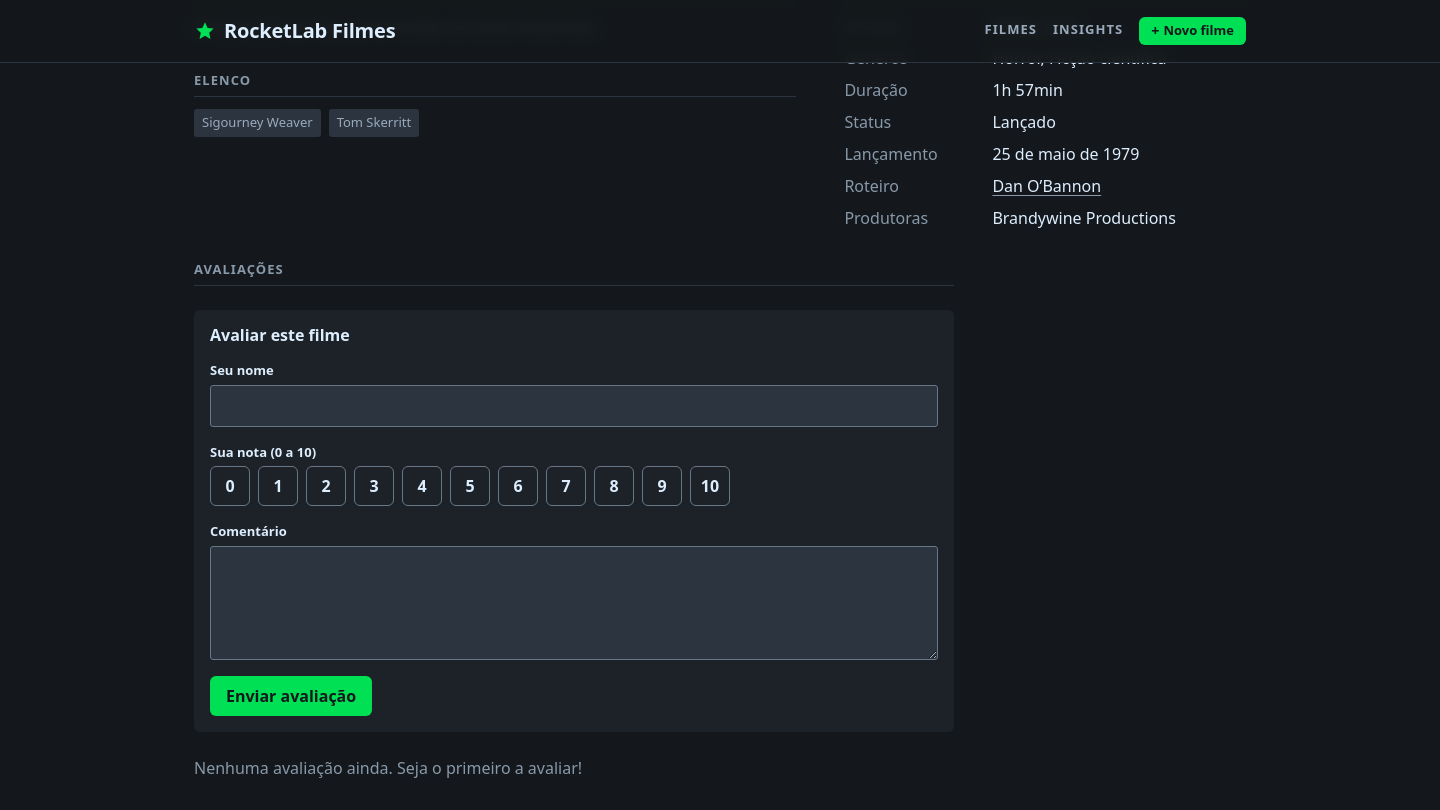
Test: MovieDetailPage — nova avaliação › mostra os erros de validação da API no campo
The image size is (1440, 810).
(page scrolled)
Type "Ana" into the field labelled "Seu nome" at {"x": 574, "y": 406}, box [210,385,938,427]
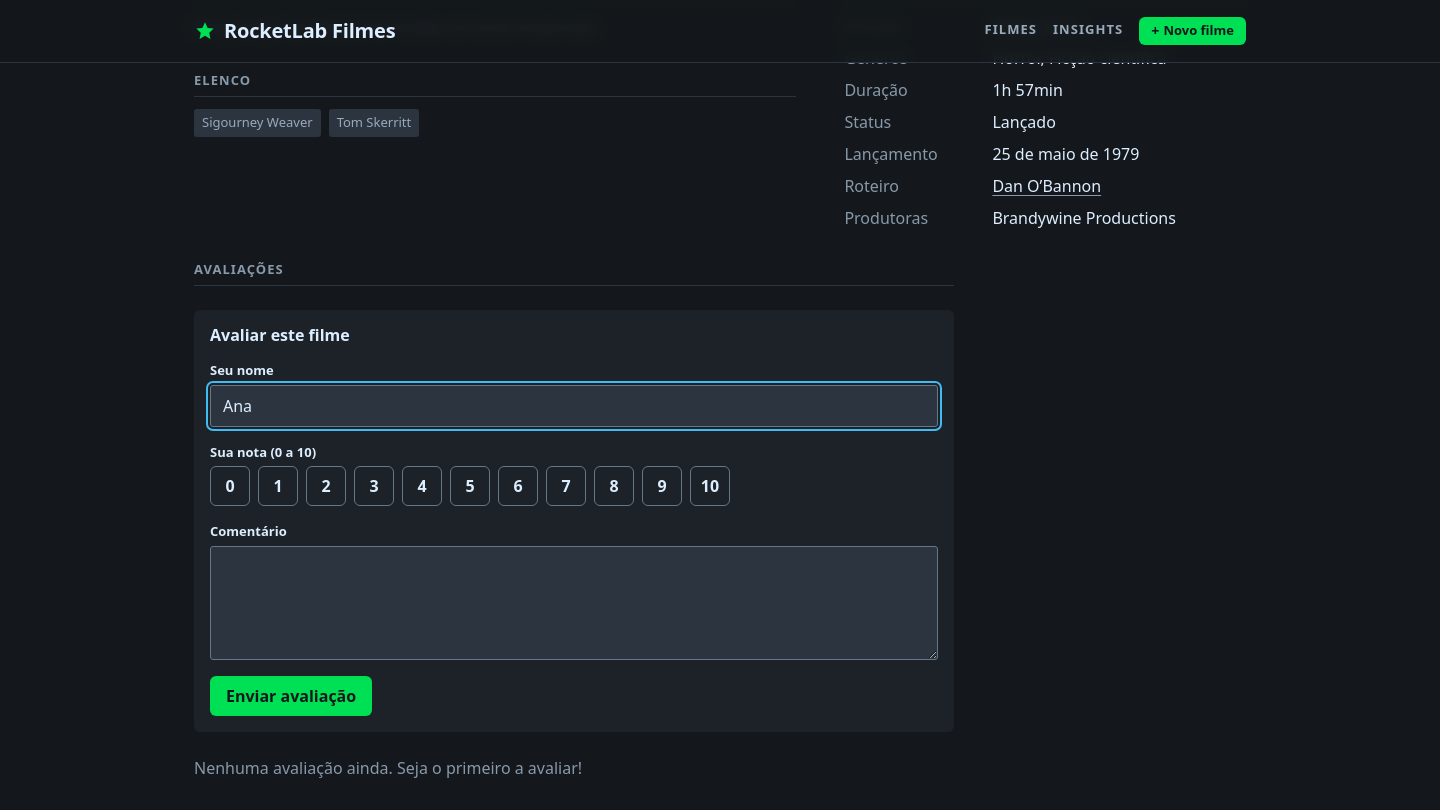
Click the radio button named "Nota 10" at {"x": 710, "y": 486}, box [690,466,730,506]
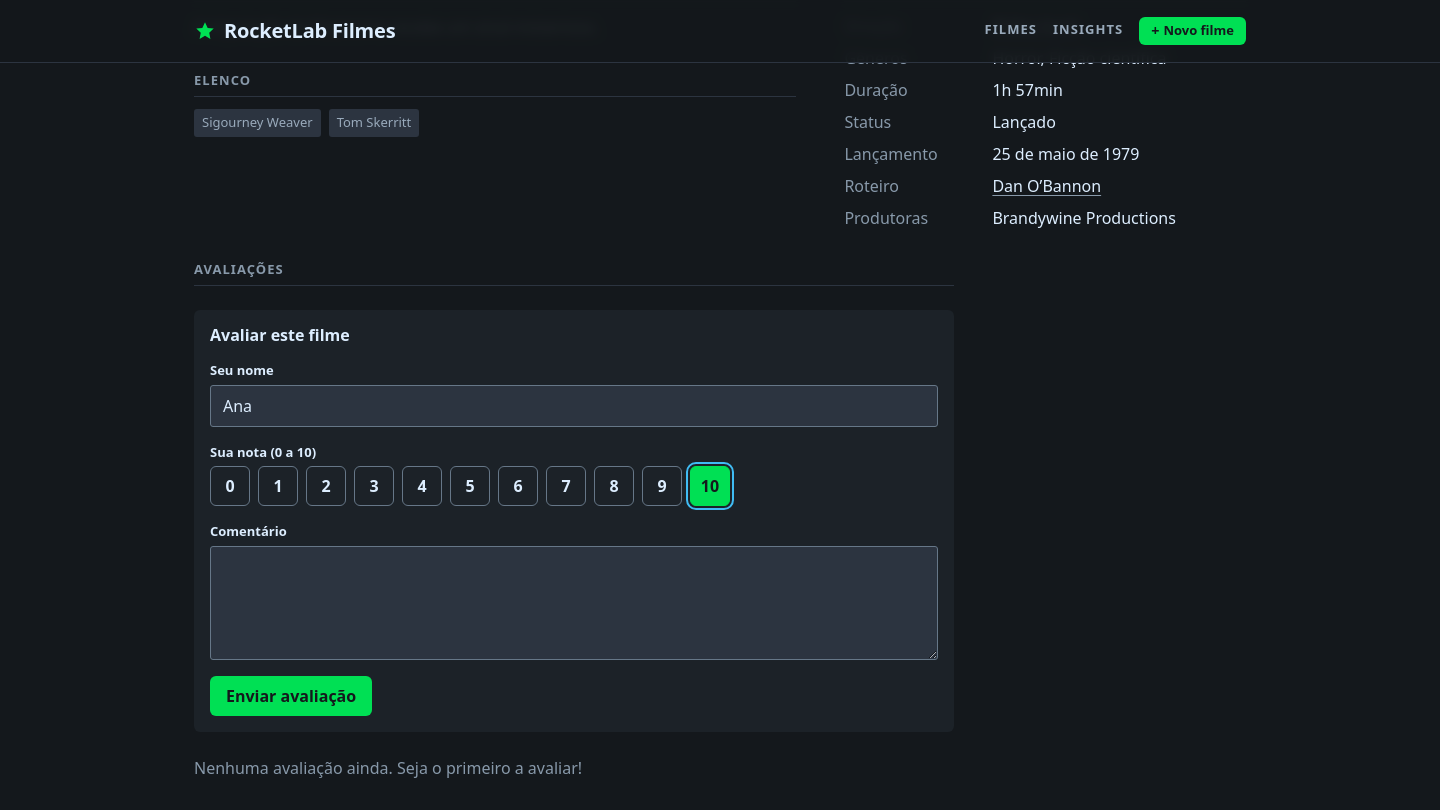
Type "Ótimo" into the text box labelled "Comentário" at {"x": 574, "y": 603}, box [210,546,938,660]
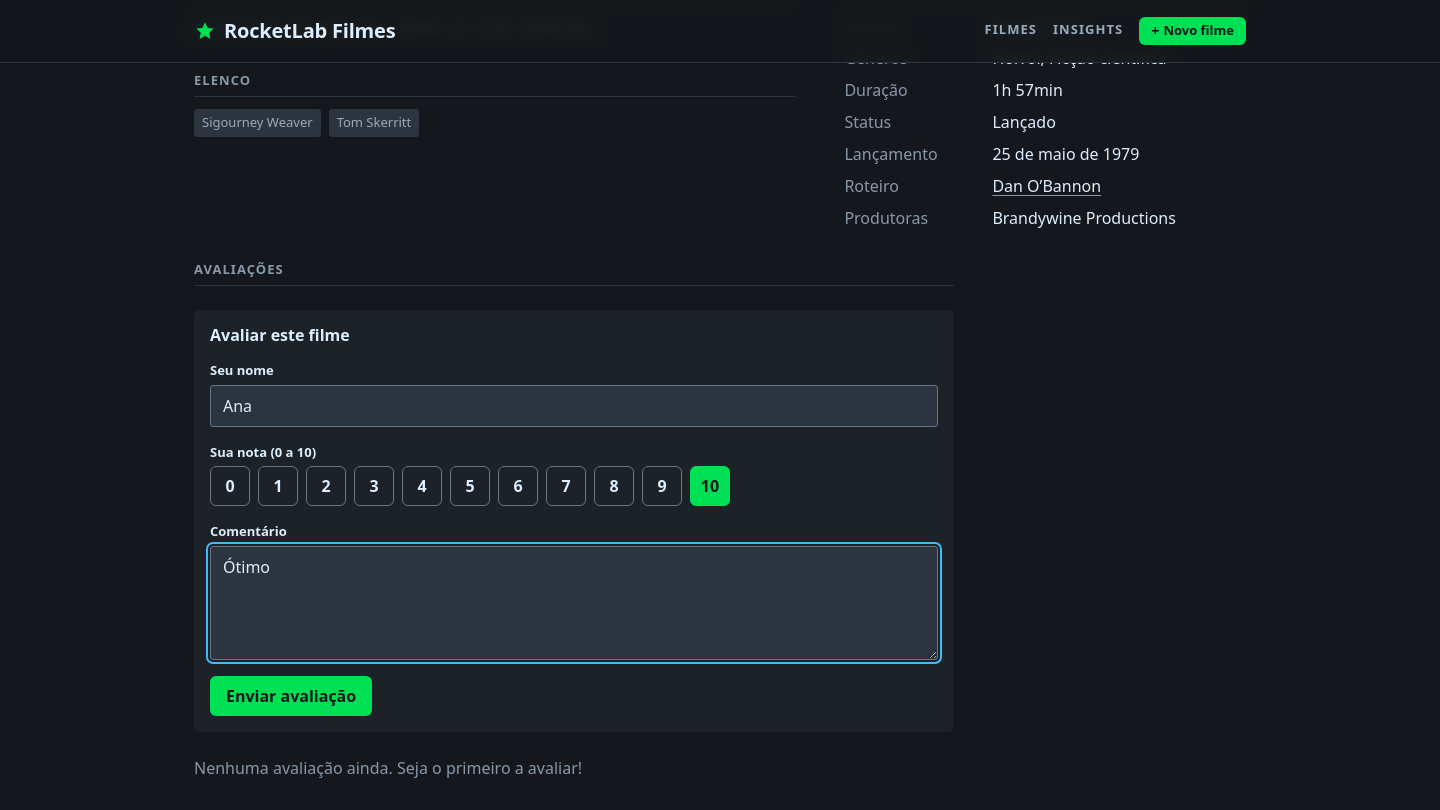
Click the button "Enviar avaliação" at {"x": 291, "y": 696}, box [210,676,372,716]
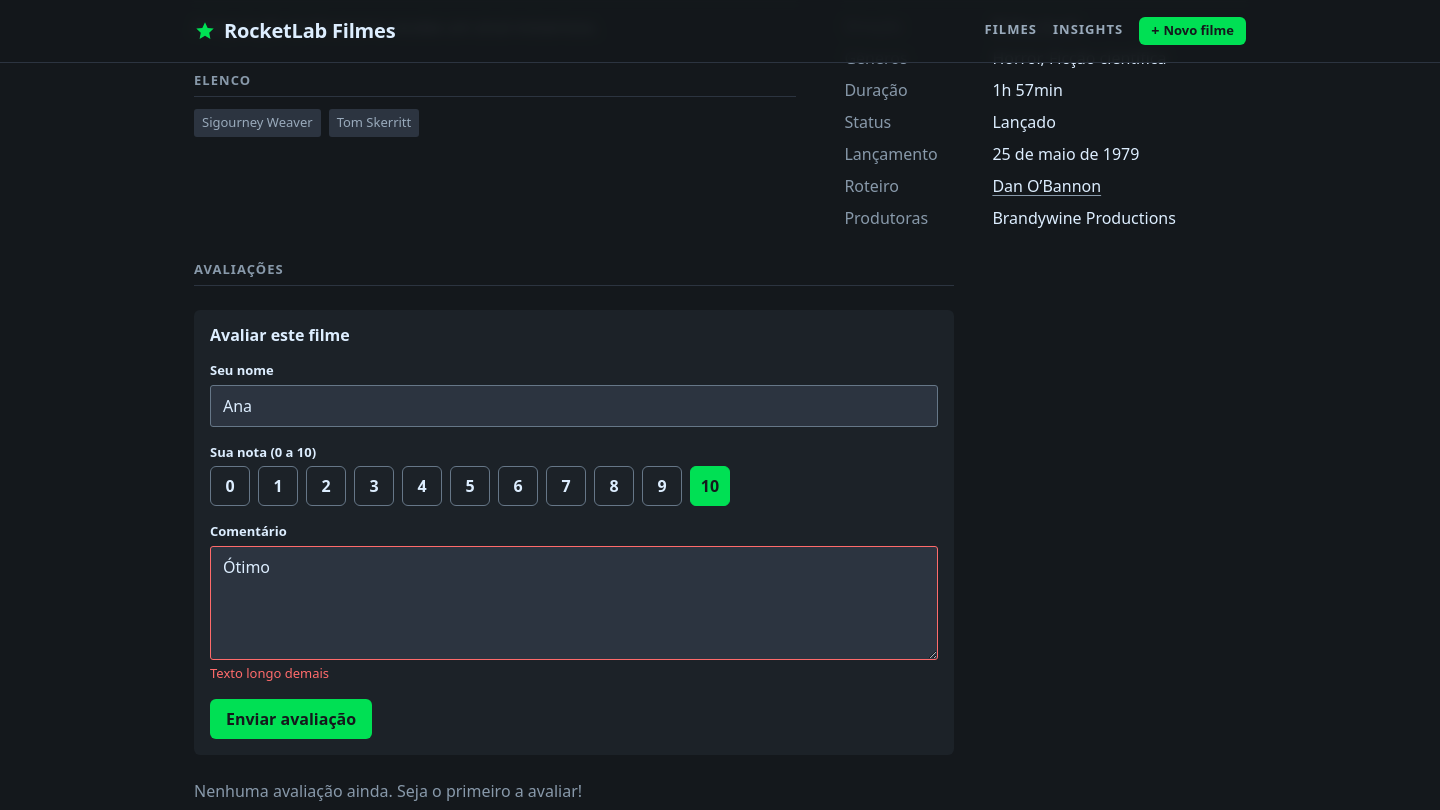
Expected: the text "Texto longo demais" is shown, [210,664,329,682]
